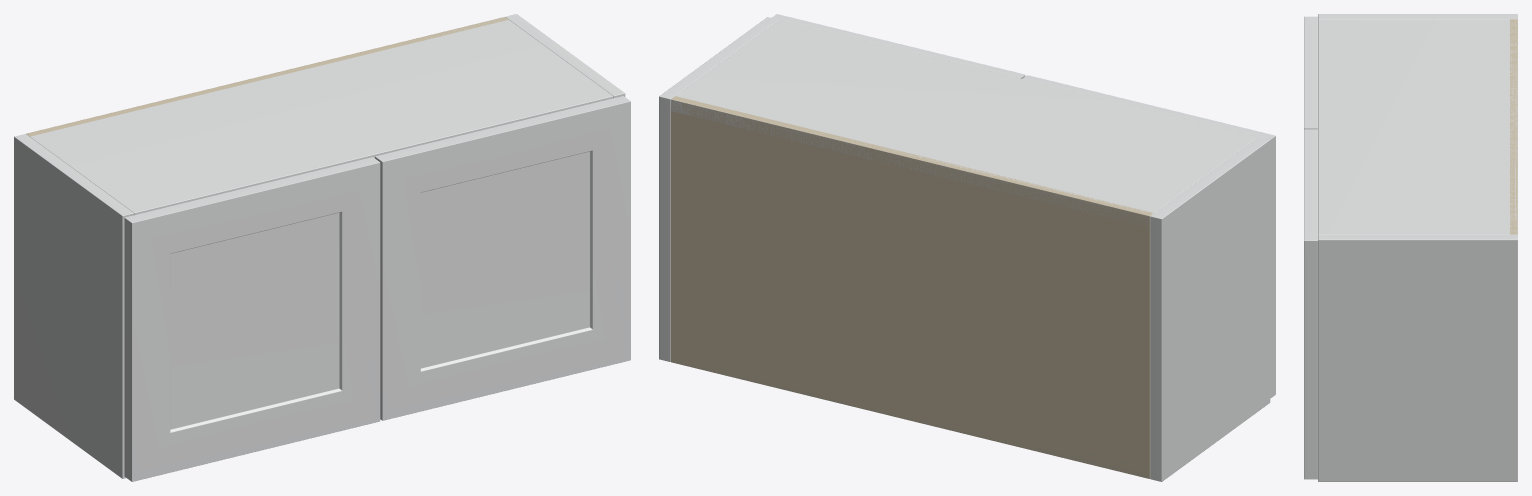
The model's file is PLY-WSS-W3015.glb.
3 views of the same model, side by side, from view 1: azimuth 30°, elevation 25°; view 2: azimuth 150°, elevation 25°; view 3: azimuth 270°, elevation 25° (orthographic). The views are drawn at different scales.
Parts seen in each view (by area): view 1: Shaker door, Shaker door.001, Carcass top, Carcass left, Carcass back, Carcass right; view 2: Carcass back, Carcass top, Carcass left, Carcass right, Shaker door, Shaker door.001, Carcass bottom; view 3: Carcass right, Carcass top, Shaker door.001, Carcass back, Shaker door, Carcass left.
Part boxes in pixels (x1,y1,x2,y2): Shaker door: (124,157,380,481); Shaker door.001: (375,96,630,420); Carcass top: (27,18,613,215); Carcass left: (14,134,133,478); Carcass back: (26,17,508,136); Carcass right: (505,14,625,98); Carcass back: (671,96,1153,478); Carcass top: (671,20,1257,226); Carcass left: (1150,137,1270,481); Carcass right: (659,17,778,361); Shaker door: (1022,75,1275,398); Shaker door.001: (772,14,1025,78); Carcass bottom: (671,361,1149,478); Carcass right: (1318,234,1517,481); Carcass top: (1318,19,1517,234); Shaker door.001: (1304,129,1317,479); Carcass back: (1510,19,1517,234); Shaker door: (1304,16,1317,129); Carcass left: (1318,14,1517,19).
Size of the model in its own units: 0.762 by 0.381 by 0.3048.
